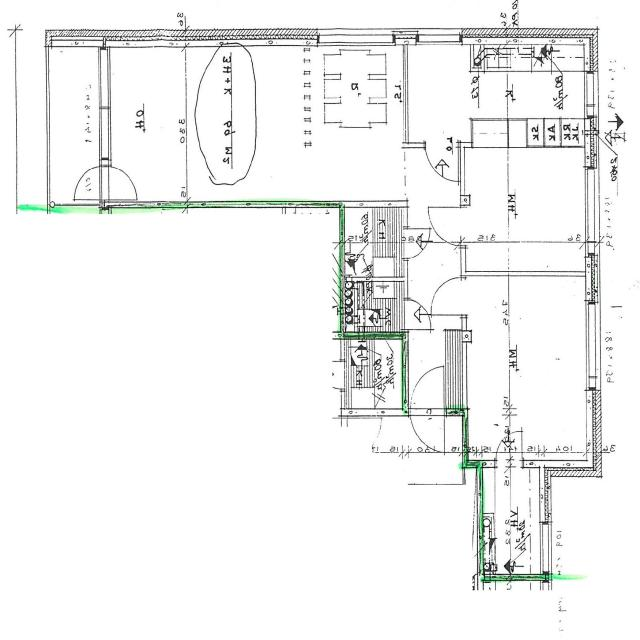door: (409, 362, 448, 414), (430, 273, 463, 317), (408, 411, 442, 453), (427, 205, 461, 245), (404, 297, 429, 325)
window: (581, 298, 604, 391), (581, 164, 604, 244), (95, 46, 114, 112), (317, 38, 383, 54), (415, 28, 463, 48), (97, 106, 113, 164), (538, 522, 554, 574), (584, 70, 598, 112)
zone: (460, 65, 592, 263), (508, 276, 592, 464), (106, 45, 186, 204), (468, 64, 586, 144), (46, 42, 102, 202), (462, 276, 514, 442), (404, 43, 474, 139), (321, 49, 390, 132), (344, 337, 402, 412), (342, 277, 404, 332), (342, 208, 385, 278), (106, 162, 140, 202), (549, 41, 589, 72), (73, 164, 101, 201), (444, 414, 465, 458)
